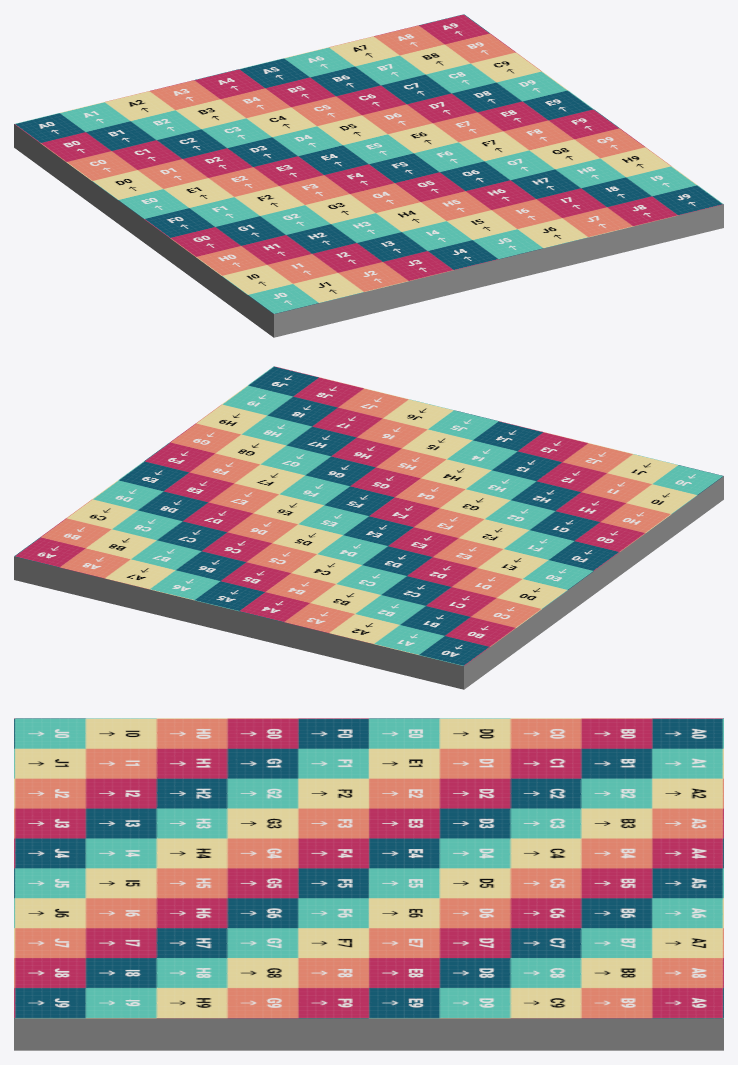
The model's file is dodai5.fbx.
3 views of the same model, one above another, from view 1: azimuth 30°, elevation 25°; view 2: azimuth 150°, elevation 25°; view 3: azimuth 270°, elevation 25° (orthographic). The views are drawn at different scales.
Parts seen in each view (by area): view 1: pCube1; view 2: pCube1; view 3: pCube1.
Part boxes in pixels (left/top/right/bottom): pCube1: left=14, top=14, right=723, bottom=337; pCube1: left=14, top=366, right=723, bottom=689; pCube1: left=14, top=718, right=723, bottom=1050.
Size of the model in its own units: 20 by 1 by 20.
2 materials, 1 textured.
